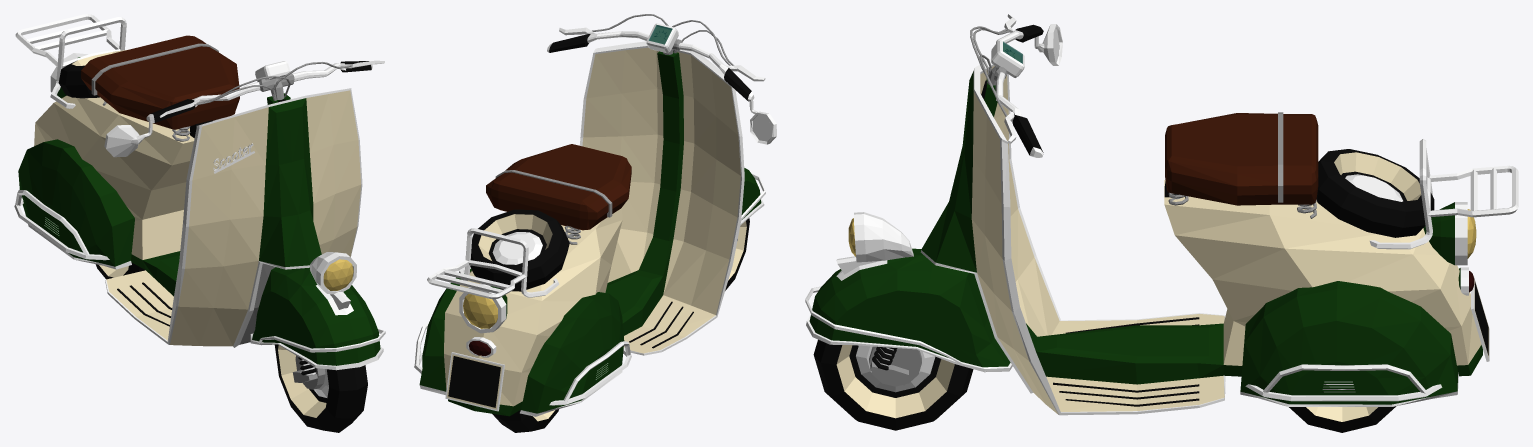
File: Scooter_04.FBX
The picture shows the model from 3 angles, left to right: view 1: azimuth 30°, elevation 25°; view 2: azimuth 150°, elevation 25°; view 3: azimuth 270°, elevation 25°; orthographic projection. The views are drawn at different scales.
Visible parts, largest first — view 1: Scooter_04, Seat, mudguard, wheel_f, luggageRack_b, handlebars, spareWheel, mirror, light_f, headLights, speedometer, wheel_b; view 2: Scooter_04, Seat, spareWheel, luggageRack_b, handlebars, licensePlate_b, tailLights, lights, wheel_b, mudguard, mirror, speedometer (+1 smaller); view 3: Scooter_04, mudguard, Seat, wheel_f, spareWheel, luggageRack_b, handlebars, light_f, wheel_b, lights, speedometer, licensePlate_b (+1 smaller).
Boxes of the visible parts, left/top/right/bottom form: Scooter_04: left=14, top=88, right=362, bottom=347; Seat: left=81, top=35, right=239, bottom=141; mudguard: left=250, top=267, right=385, bottom=389; wheel_f: left=274, top=344, right=367, bottom=432; luggageRack_b: left=15, top=14, right=126, bottom=108; handlebars: left=146, top=60, right=384, bottom=122; spareWheel: left=58, top=50, right=126, bottom=98; mirror: left=104, top=121, right=152, bottom=157; light_f: left=310, top=252, right=356, bottom=294; headLights: left=323, top=259, right=353, bottom=290; speedometer: left=255, top=61, right=290, bottom=81; wheel_b: left=95, top=262, right=145, bottom=279; Scooter_04: left=414, top=41, right=744, bottom=416; Seat: left=486, top=144, right=631, bottom=244; spareWheel: left=470, top=209, right=569, bottom=291; luggageRack_b: left=427, top=228, right=559, bottom=299; handlebars: left=547, top=14, right=765, bottom=101; licensePlate_b: left=445, top=352, right=504, bottom=411; tailLights: left=463, top=294, right=497, bottom=355; lights: left=459, top=283, right=507, bottom=357; wheel_b: left=492, top=409, right=558, bottom=432; mudguard: left=737, top=168, right=765, bottom=240; mirror: left=749, top=100, right=776, bottom=144; speedometer: left=646, top=23, right=678, bottom=53; Scooter_04: left=920, top=58, right=1482, bottom=415; mudguard: left=805, top=248, right=1012, bottom=386; Seat: left=1164, top=112, right=1318, bottom=218; wheel_f: left=813, top=339, right=973, bottom=430; spareWheel: left=1316, top=149, right=1434, bottom=237; luggageRack_b: left=1369, top=139, right=1518, bottom=249; handlebars: left=970, top=14, right=1043, bottom=157; light_f: left=854, top=212, right=913, bottom=262; wheel_b: left=1289, top=381, right=1395, bottom=432; lights: left=1423, top=202, right=1468, bottom=295; speedometer: left=991, top=40, right=1024, bottom=77; licensePlate_b: left=1471, top=276, right=1489, bottom=361.
Bounding box in the file's own units: 9.72 × 12.03 × 20.16.
